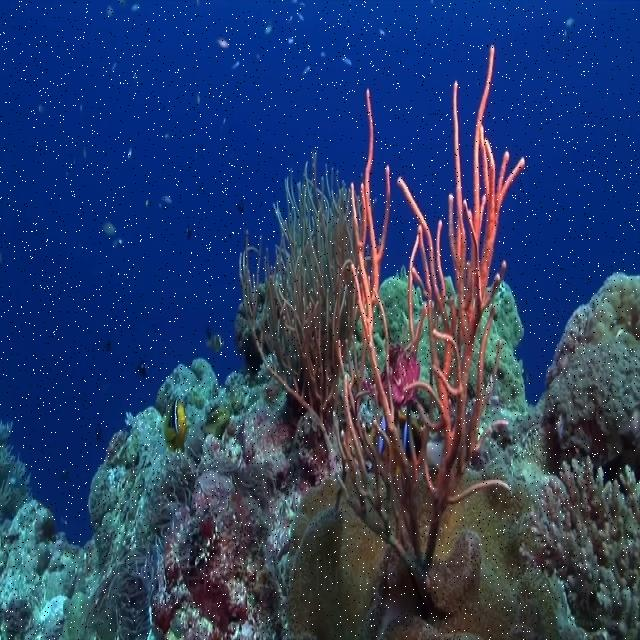fish: (163, 399, 188, 450)
reefs: (332, 41, 527, 573), (0, 358, 272, 639), (286, 472, 607, 639), (132, 395, 335, 639), (235, 144, 355, 430), (521, 451, 639, 638), (544, 271, 639, 469)
